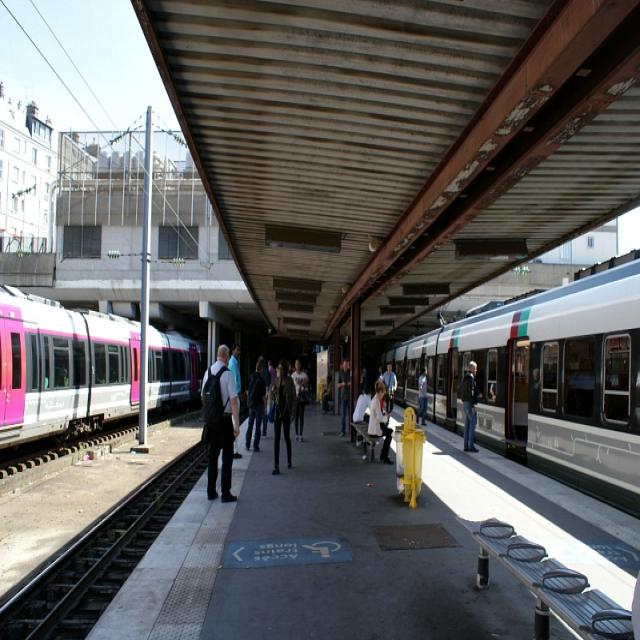body: (198, 341, 242, 502), (270, 358, 298, 475), (366, 377, 396, 466), (38, 359, 128, 388), (243, 358, 268, 451), (513, 351, 546, 420), (458, 359, 481, 453), (566, 352, 597, 419), (227, 341, 243, 461), (262, 353, 316, 385), (290, 358, 308, 444), (335, 359, 351, 438), (257, 356, 271, 440), (414, 365, 431, 426), (382, 361, 400, 418), (266, 358, 278, 426), (353, 385, 373, 424), (321, 374, 334, 416), (487, 371, 500, 411), (320, 371, 332, 402), (355, 368, 367, 398), (337, 356, 354, 374), (379, 381, 387, 416), (375, 360, 383, 381), (372, 397, 373, 398)
